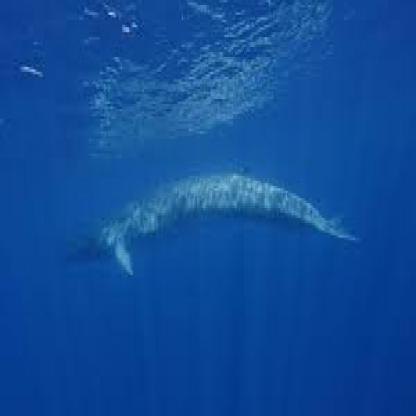blue_whale: (62, 141, 380, 339)
